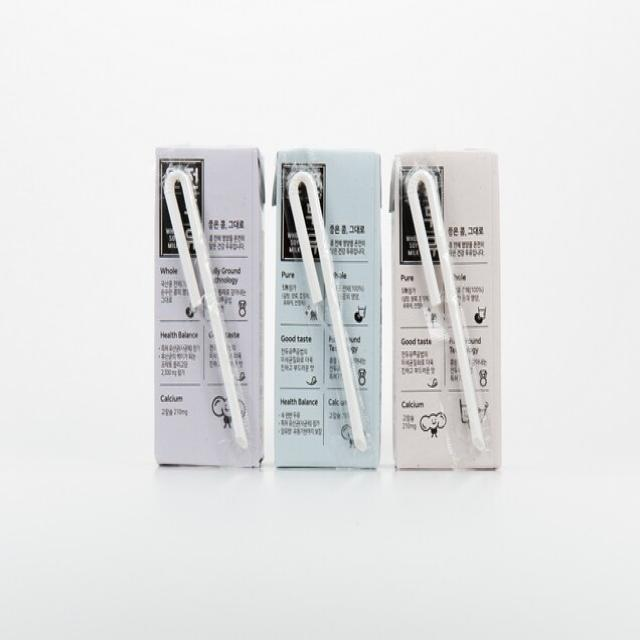Tetra: (146, 130, 272, 486), (384, 149, 512, 485), (269, 138, 386, 476)
